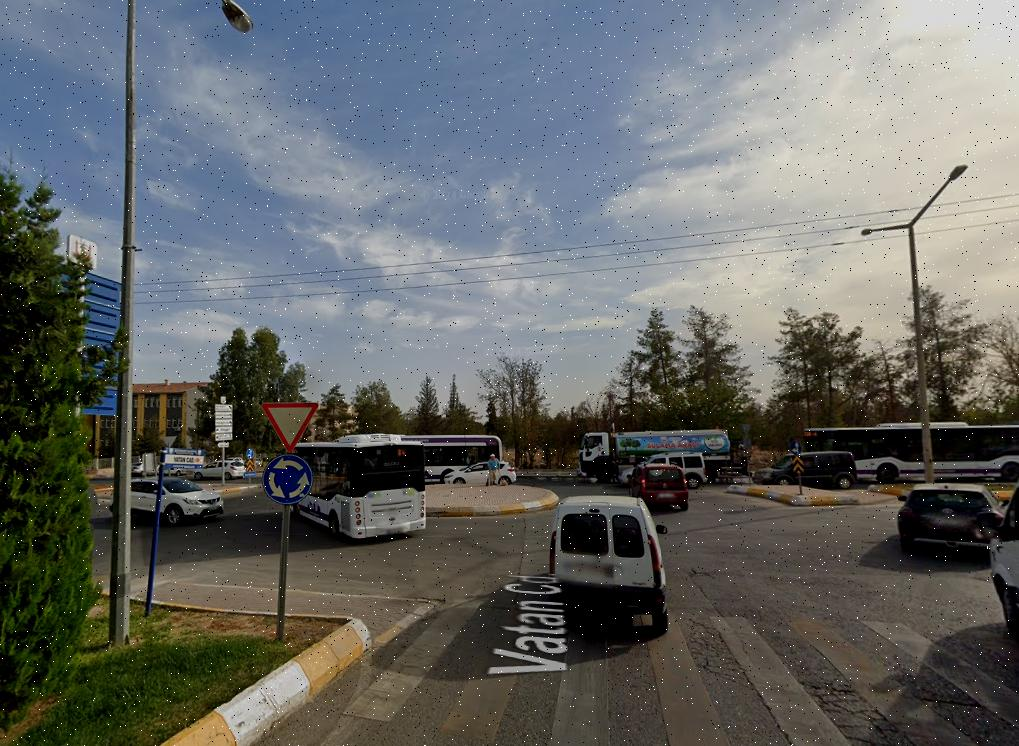crossroads: (263, 447, 321, 510)
